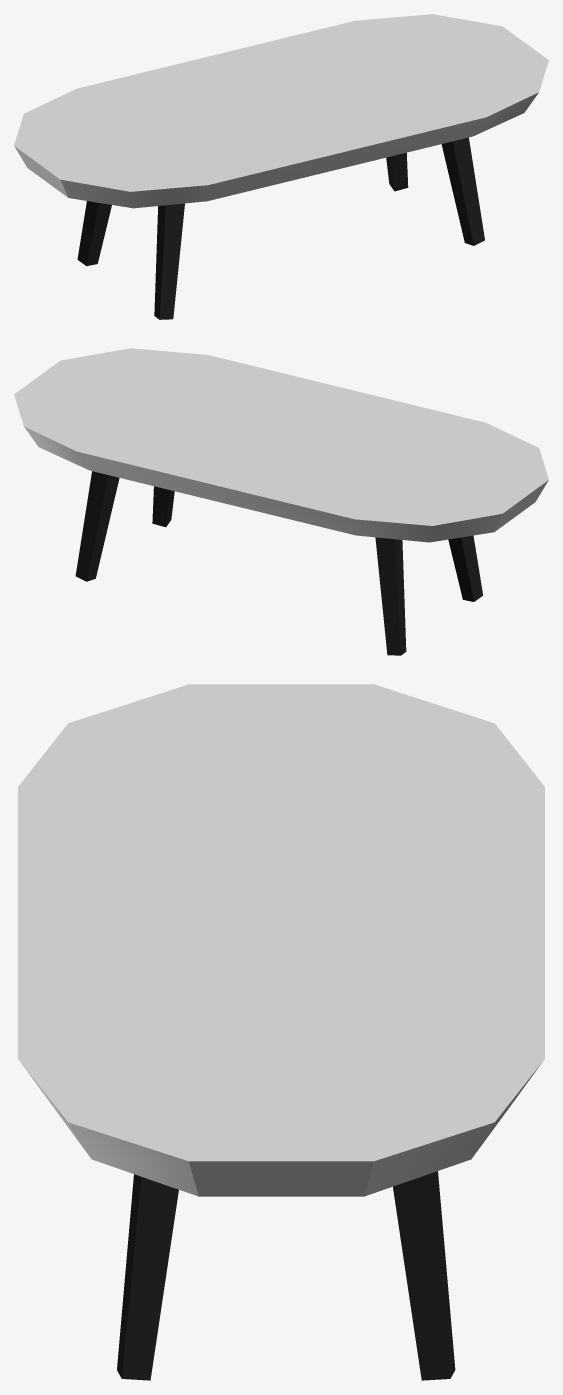
The model's file is coffee_table_007.glb.
3 views of the same model, one above another, from view 1: azimuth 30°, elevation 25°; view 2: azimuth 150°, elevation 25°; view 3: azimuth 270°, elevation 25° (orthographic). The views are drawn at different scales.
Visible parts, largest first — view 1: coffee_table_007; view 2: coffee_table_007; view 3: coffee_table_007.
Boxes of the visible parts, bbox=[...] form: coffee_table_007: bbox=[14, 14, 548, 319]; coffee_table_007: bbox=[14, 348, 548, 655]; coffee_table_007: bbox=[18, 684, 544, 1380].
Bounding box in the file's own units: 1.32 × 0.3905 × 0.6156.
Materials: 1 (1 with a texture image).
